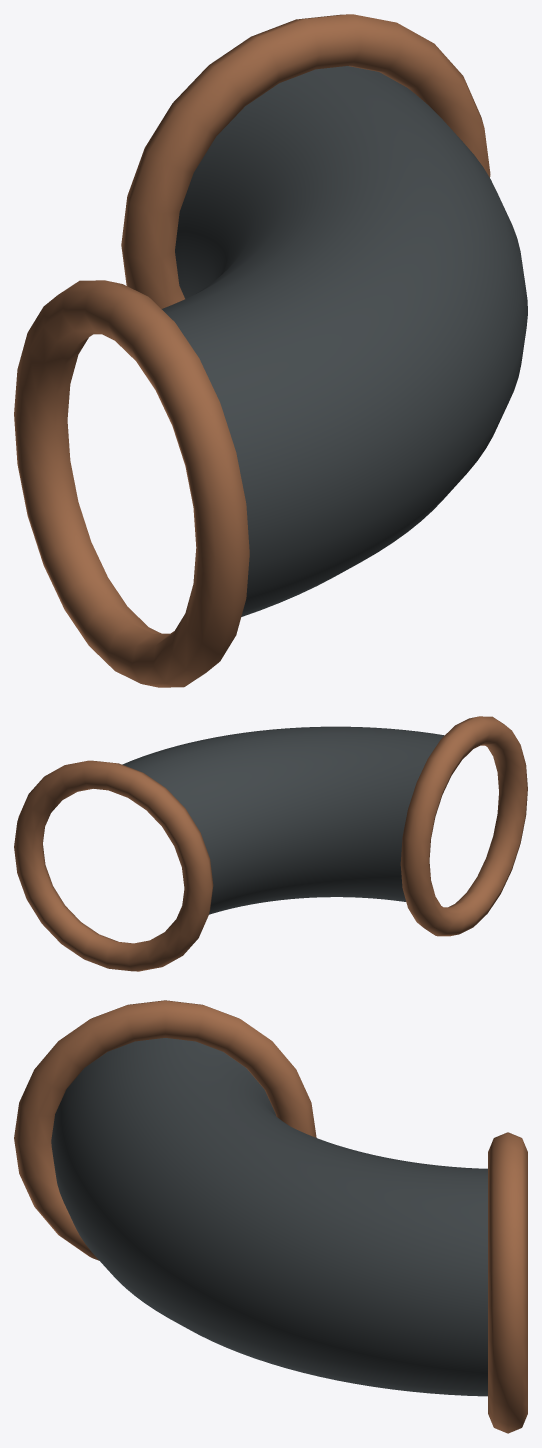
File: undercity-sewers-and-thieves-den-iron-pipe-elbow-9d24c82a__27197.glb
The picture shows the model from 3 angles, top to bottom: view 1: azimuth 30°, elevation 25°; view 2: azimuth 150°, elevation 25°; view 3: azimuth 270°, elevation 25°; orthographic projection. The views are drawn at different scales.
Parts seen in each view (by area): view 1: iron-pipe-elbow; view 2: iron-pipe-elbow; view 3: iron-pipe-elbow.
Part boxes in pixels (bbox=[...]): iron-pipe-elbow: bbox=[14, 14, 527, 687]; iron-pipe-elbow: bbox=[14, 716, 527, 971]; iron-pipe-elbow: bbox=[14, 1000, 527, 1433].
Size of the model in its own units: 0.9 by 0.5301 by 0.9.
